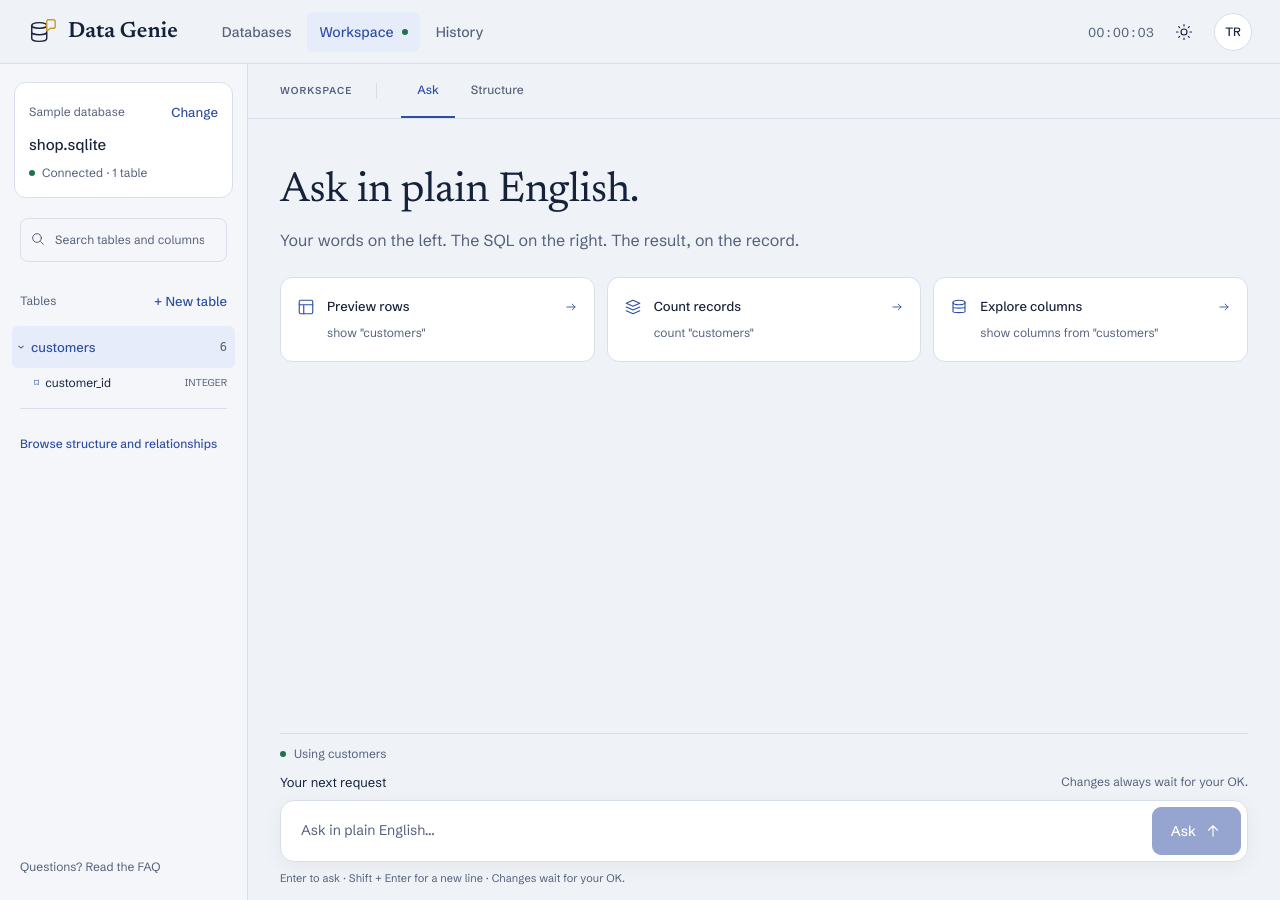
Test: React pages and account flow › does not execute a prepared database change until confirmation
In the text box named "Ask in plain English": (716, 831) [287,807,1146,855], type "delete customer 1"
Then press Enter
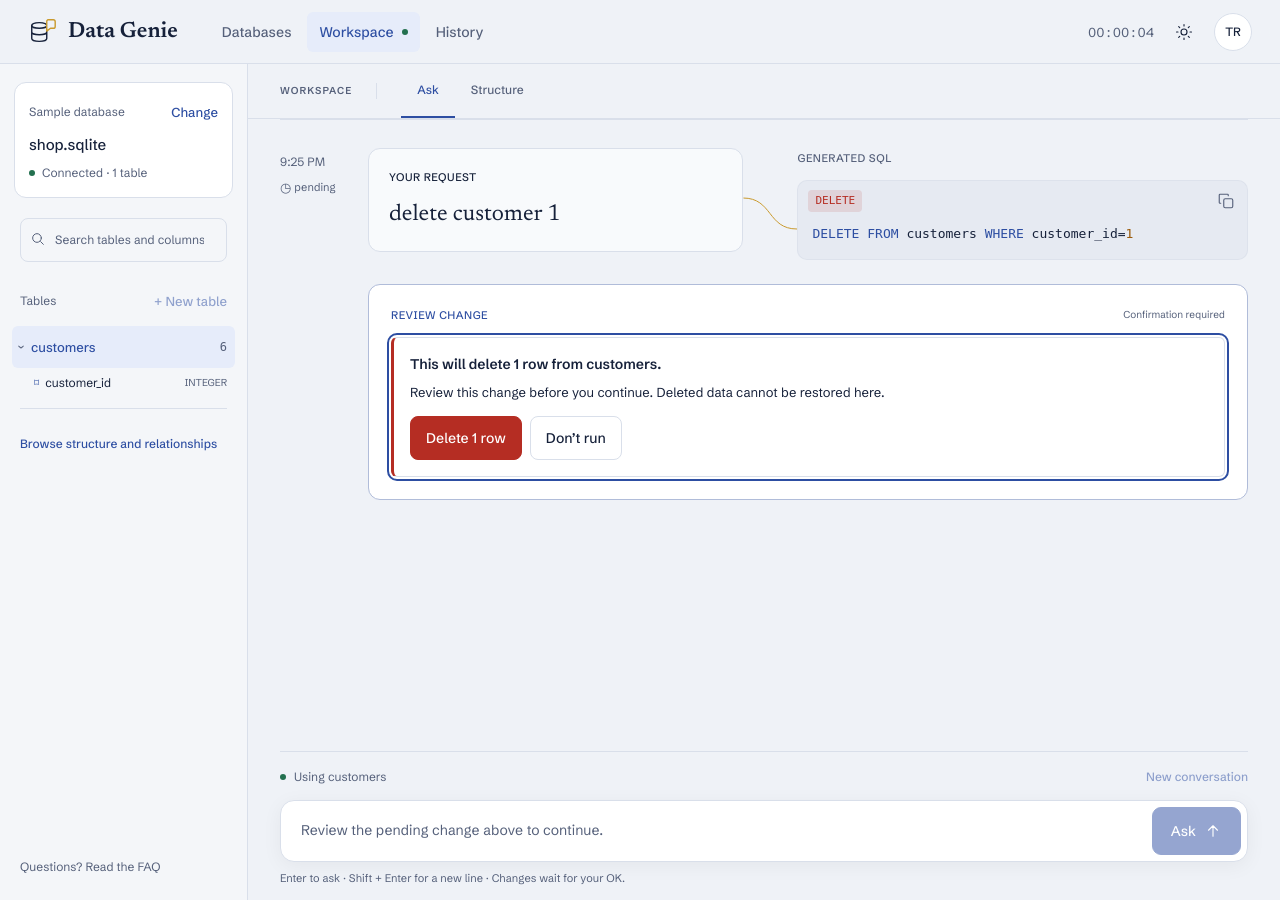
Now the text box named "Ask in plain English" is disabled, box [287,807,1146,855]
Now the button "New conversation" is disabled, box [1146,762,1248,792]
Click the button "Delete 1 row": (466, 438) [410,416,522,460]
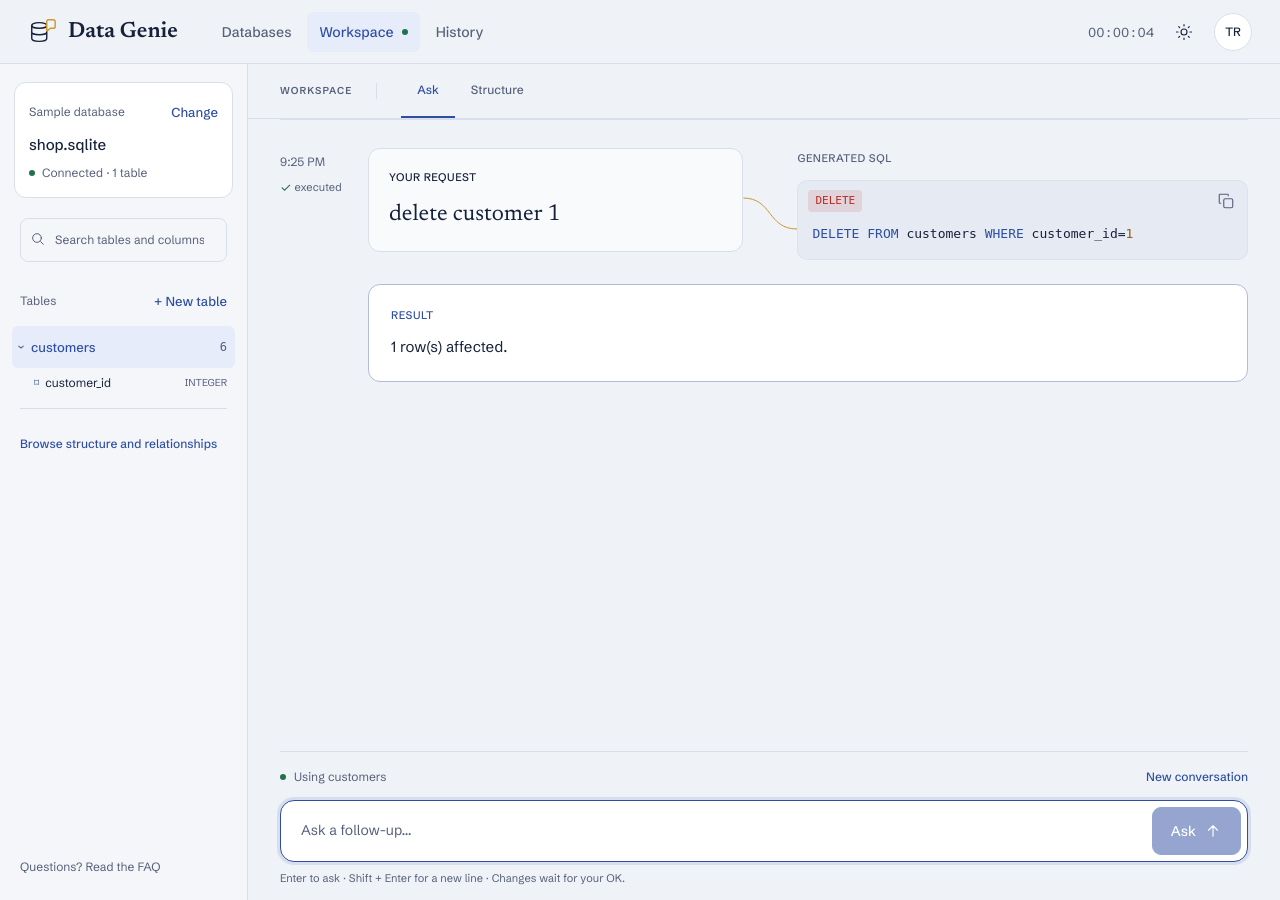
Now the text "1 row(s) affected." is shown, box [391,337,508,356]
Now the text box named "Ask in plain English" is enabled, box [287,807,1146,855]
